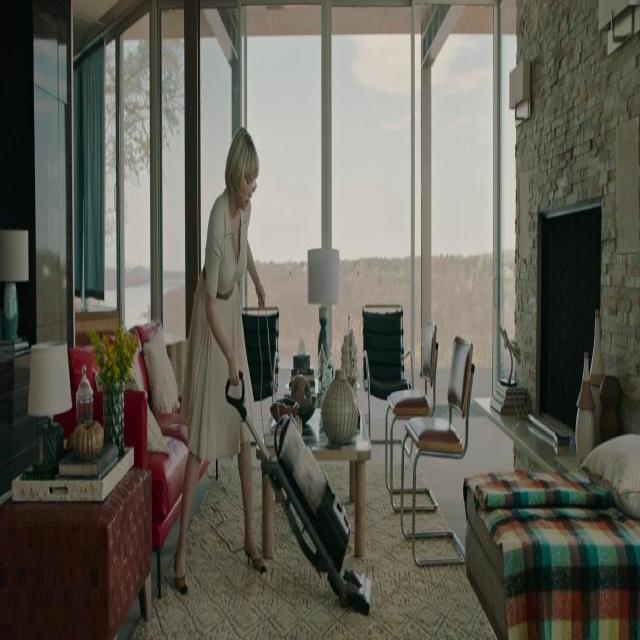walking: (171, 101, 273, 605)
